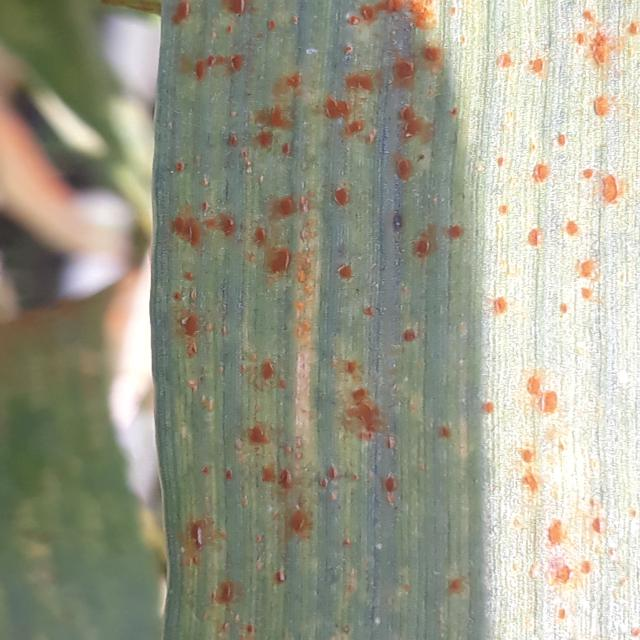orang_rust: (131, 3, 640, 640)
